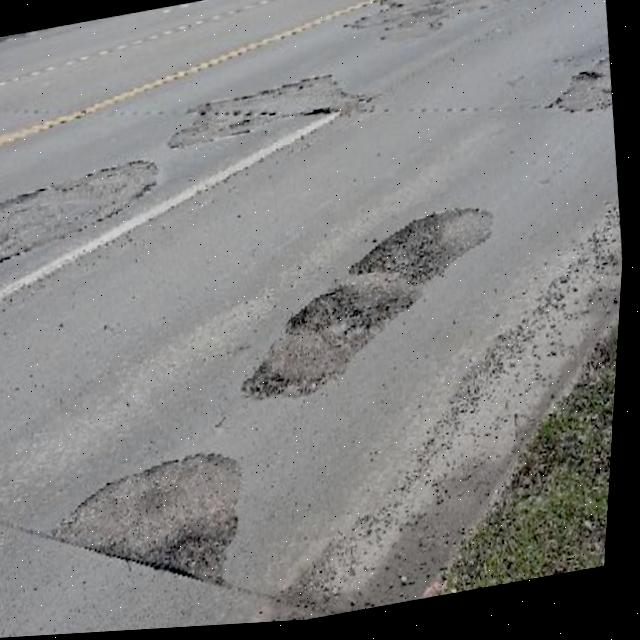Pothole: (286, 279, 419, 348), (348, 212, 453, 290), (161, 525, 243, 592)
